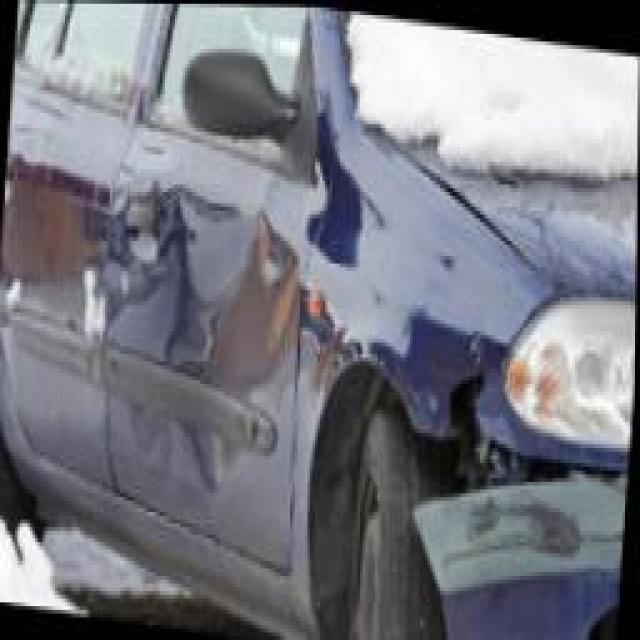Bumper: (410, 433, 628, 640)
Door: (112, 162, 274, 481)
Fender: (415, 301, 517, 465)
